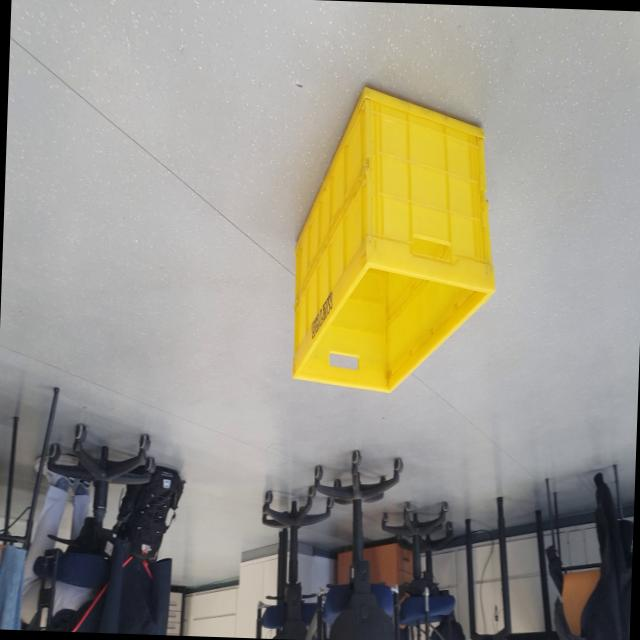box: (276, 79, 506, 412)
